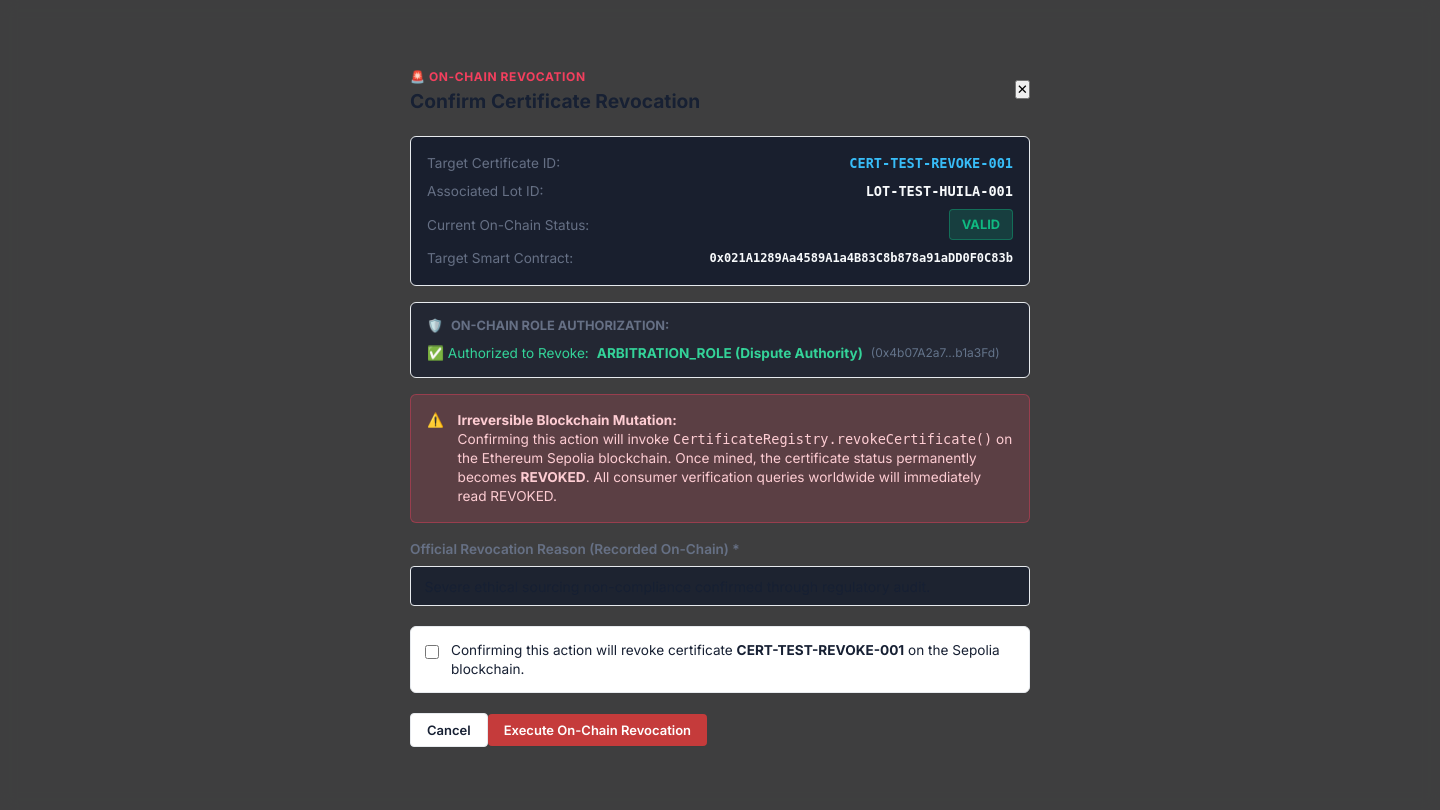
Test: Phase 6 Regulator & Auditor Dashboard Test Suite › 15. proves transaction hash and Sepolia explorer link are rendered upon confirmation
Expected: the text "✅ Authorized to Revoke:" is shown, [427, 343, 589, 364]
Click the checkbox: (432, 652) [425, 644, 439, 660]
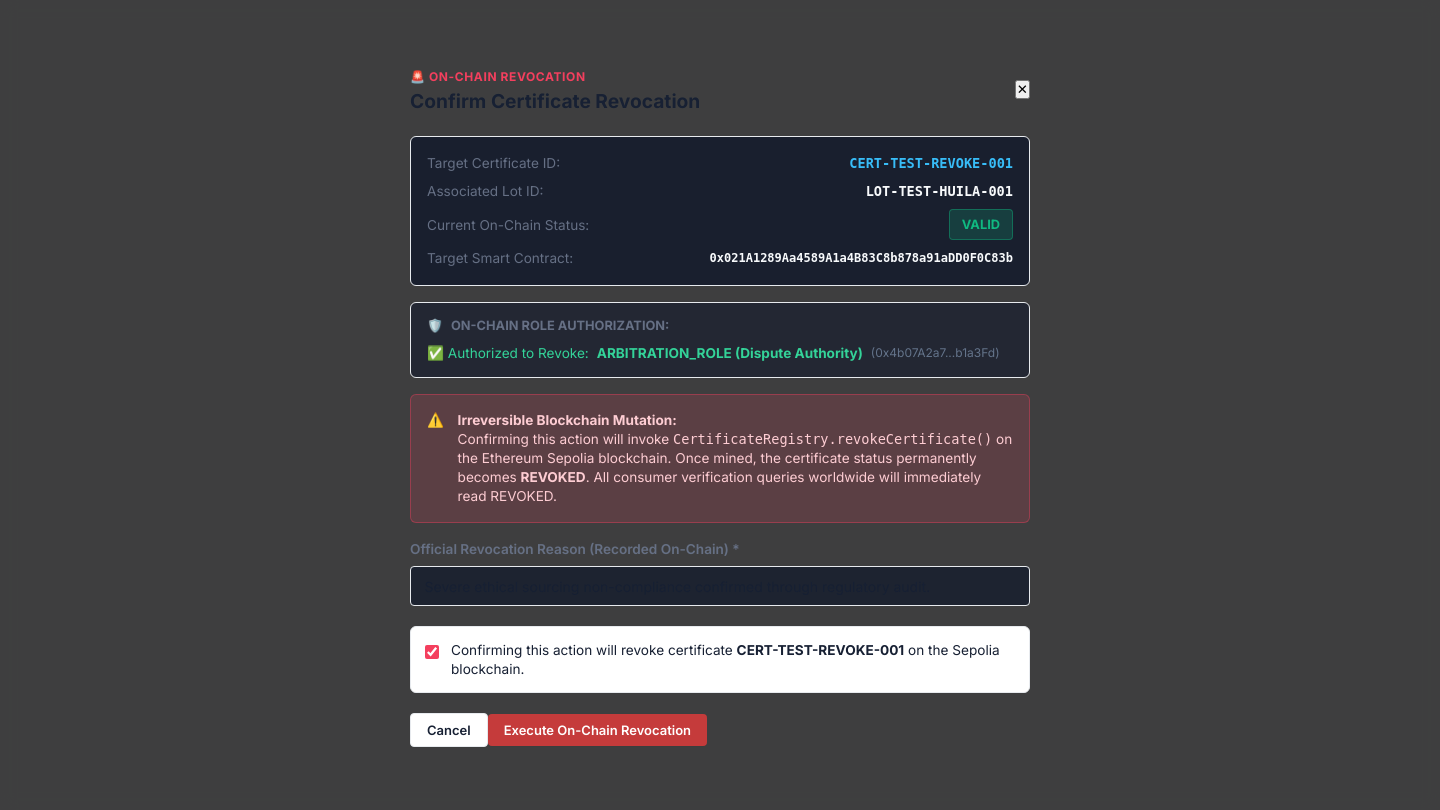
Click the button "Execute On-Chain Revocation": (597, 730) [488, 714, 707, 746]
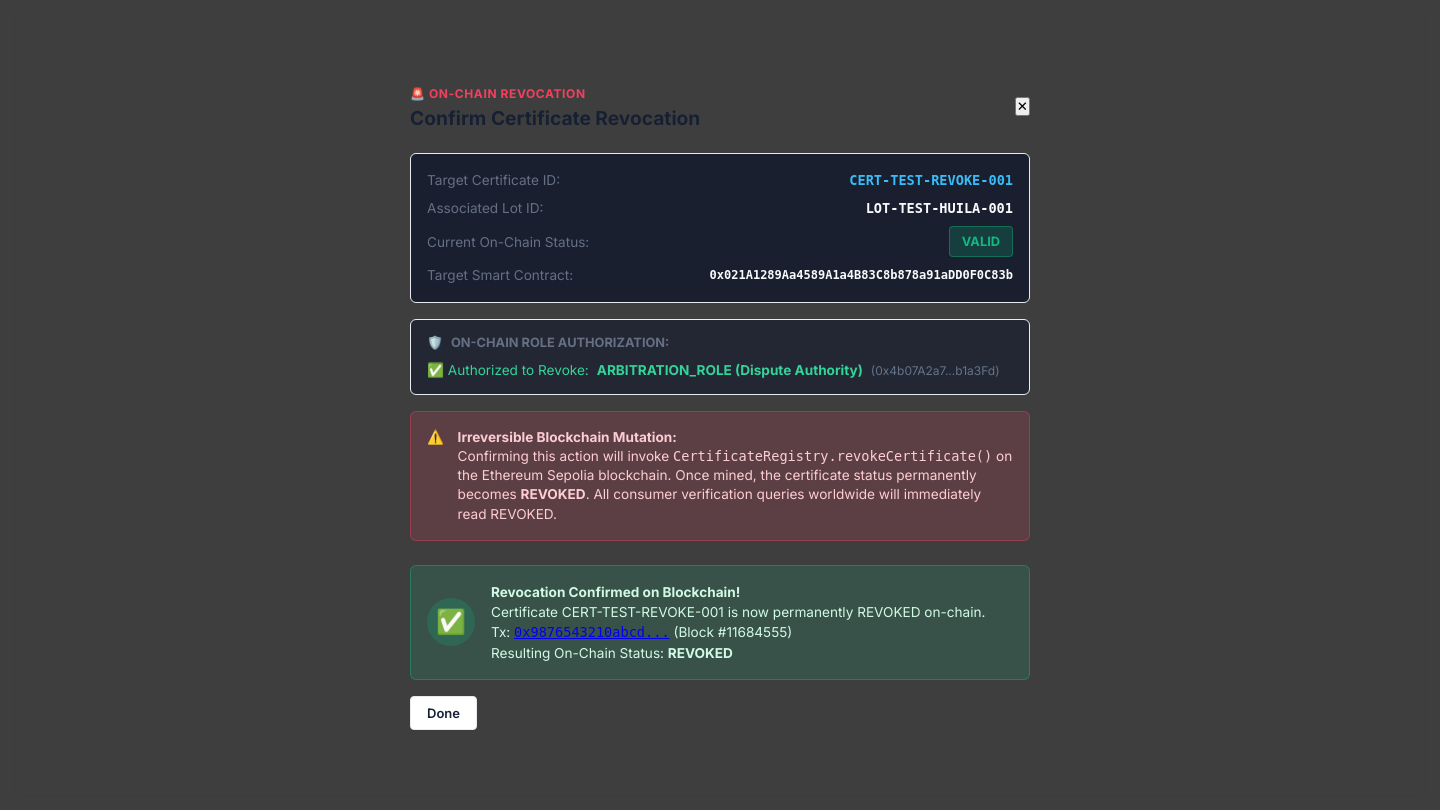
Expected: the text "Revocation Confirmed on Blockchain!" is shown, [491, 584, 740, 600]
Expected: the button "Done" is shown, [410, 696, 477, 730]
